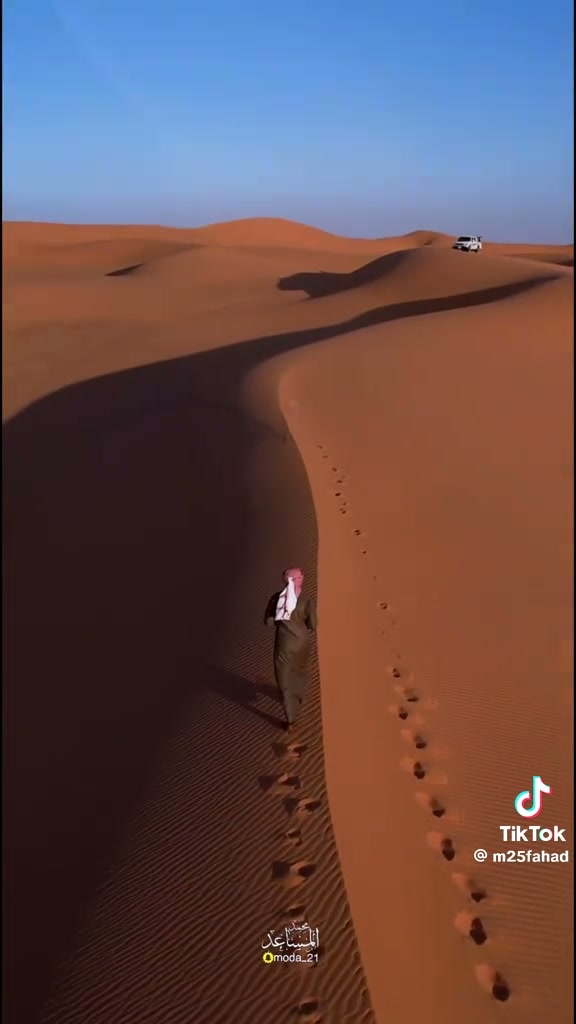human_foot_print: (265, 568, 316, 730), (475, 964, 510, 1001), (272, 860, 315, 888), (454, 910, 487, 944), (451, 872, 487, 903), (258, 772, 300, 794), (426, 832, 456, 861), (415, 792, 446, 817), (294, 996, 322, 1023), (284, 797, 320, 818), (273, 740, 306, 760), (394, 683, 419, 703), (284, 827, 301, 846)
